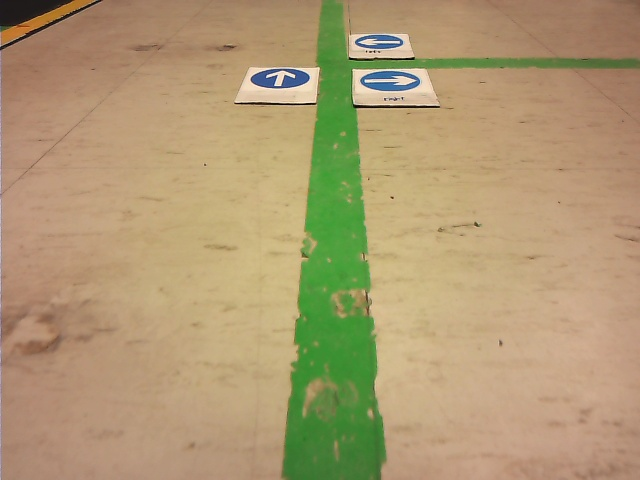GO FORWARD: (251, 69, 309, 88)
TURN LEFT: (356, 34, 403, 49)
TURN RIGHT: (360, 70, 420, 90)
